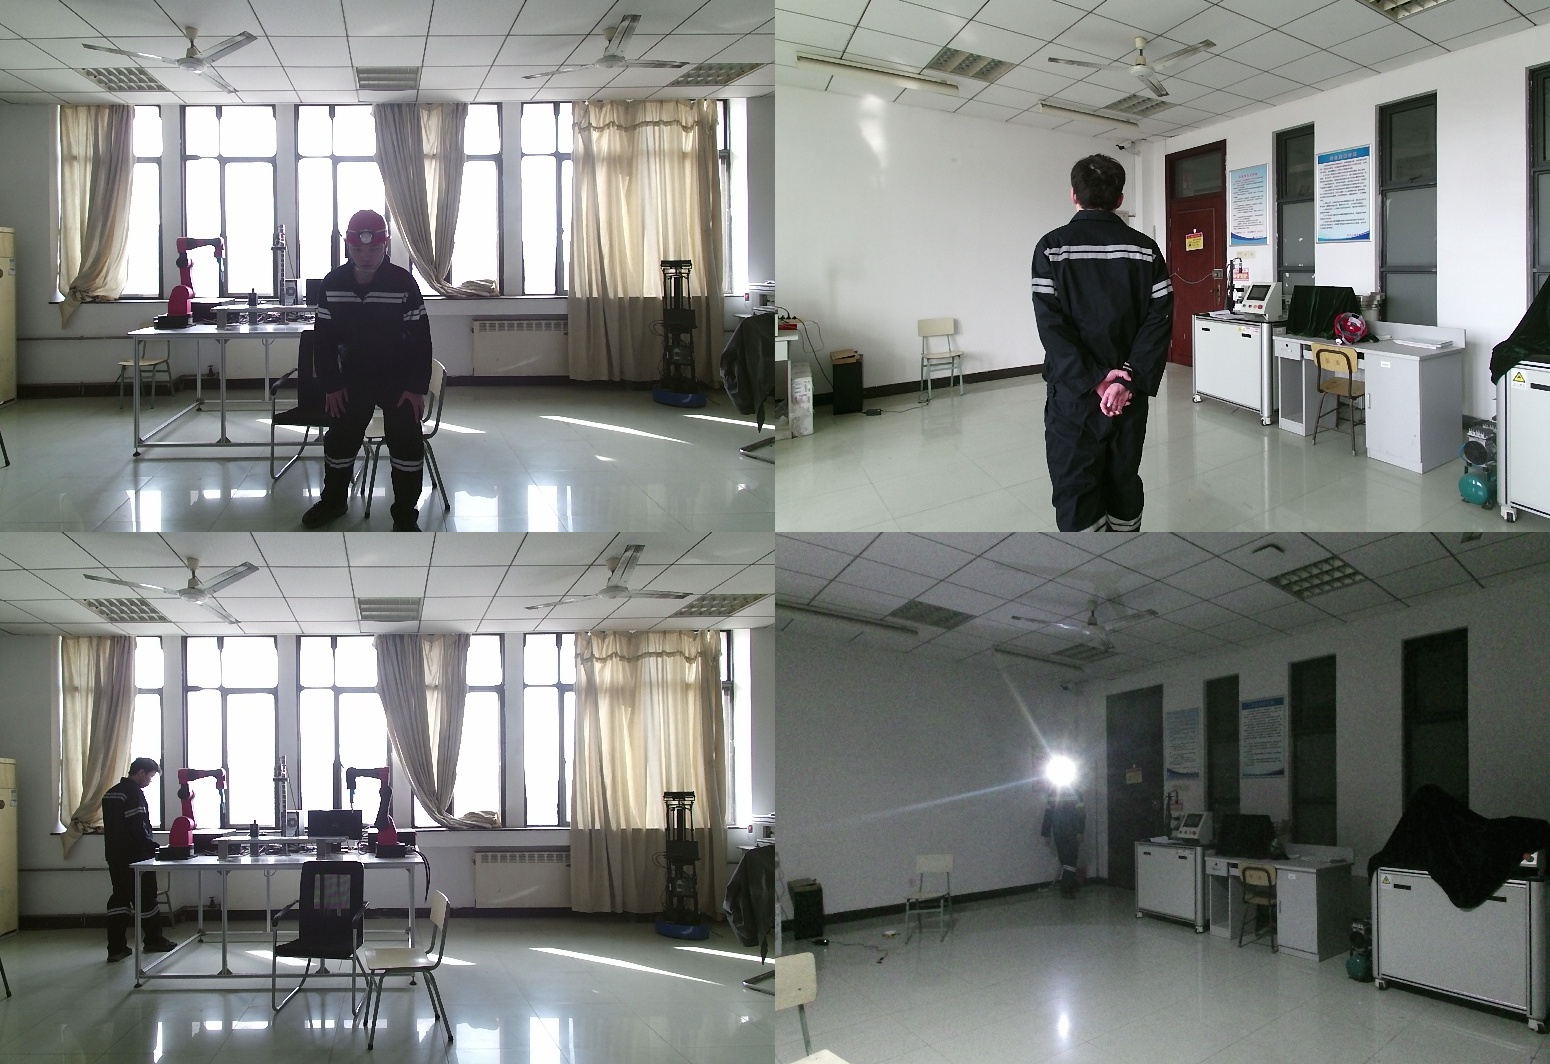person: (1022, 157, 1190, 532), (308, 211, 451, 532), (94, 757, 177, 963), (1041, 768, 1089, 898)
